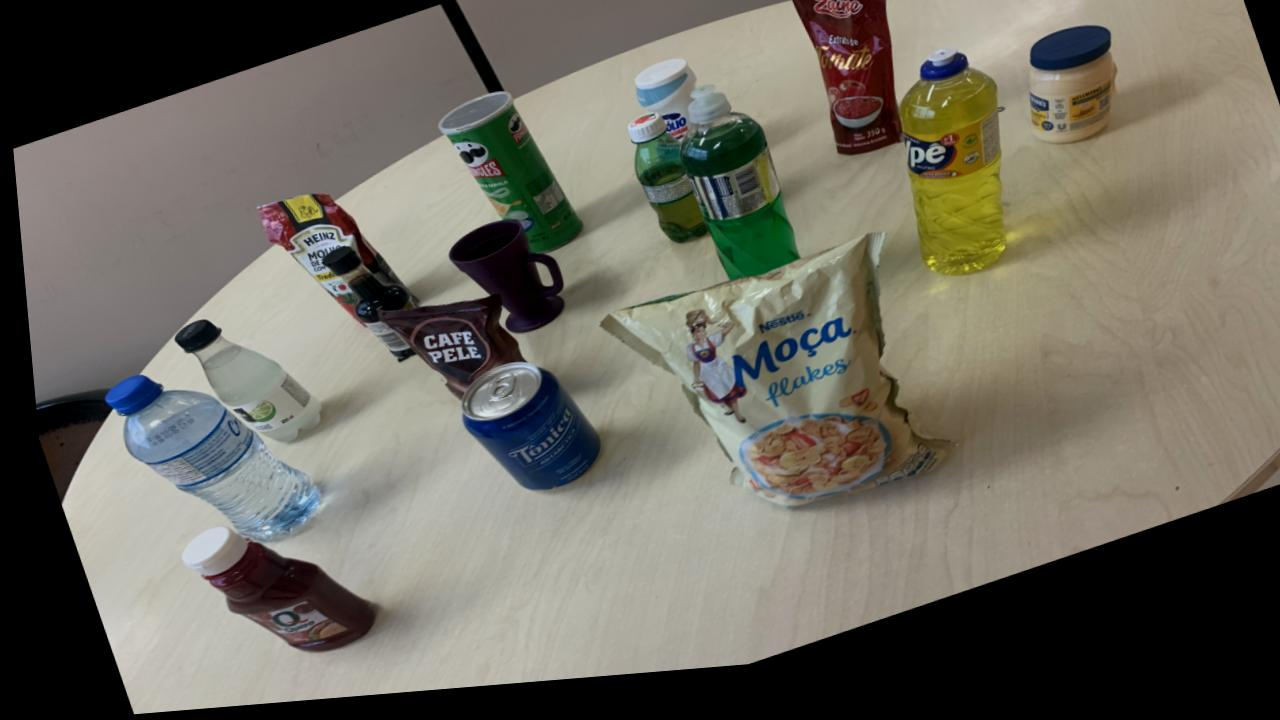Cleaner-Cleanup_Items: (632, 70, 694, 151)
Coffee-Pantry_Items: (373, 302, 518, 405)
Detergent-Cleanup_Items: (895, 63, 1001, 291), (676, 96, 794, 292)
Flakes-Snacks: (594, 247, 941, 519)
Guarana-Drinks: (625, 123, 703, 254)
Ketchup-Pantry_Items: (171, 530, 363, 656)
Mayonnaise-Pantry_Items: (1026, 43, 1114, 162)
Pringles-Snacks: (436, 99, 578, 262)
Soda-Drinks: (170, 322, 314, 447)
Tomato_Sauce-Pantry_Items: (788, 0, 898, 169), (254, 198, 395, 322)
Tonic-Drinks: (453, 370, 592, 498)
Water_Bottle-Drinks: (99, 378, 312, 544)
